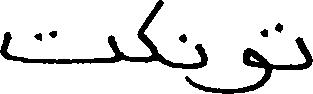X: (0, 26, 119, 68), (244, 24, 271, 93), (139, 0, 162, 68), (295, 32, 312, 74), (196, 39, 207, 93)
